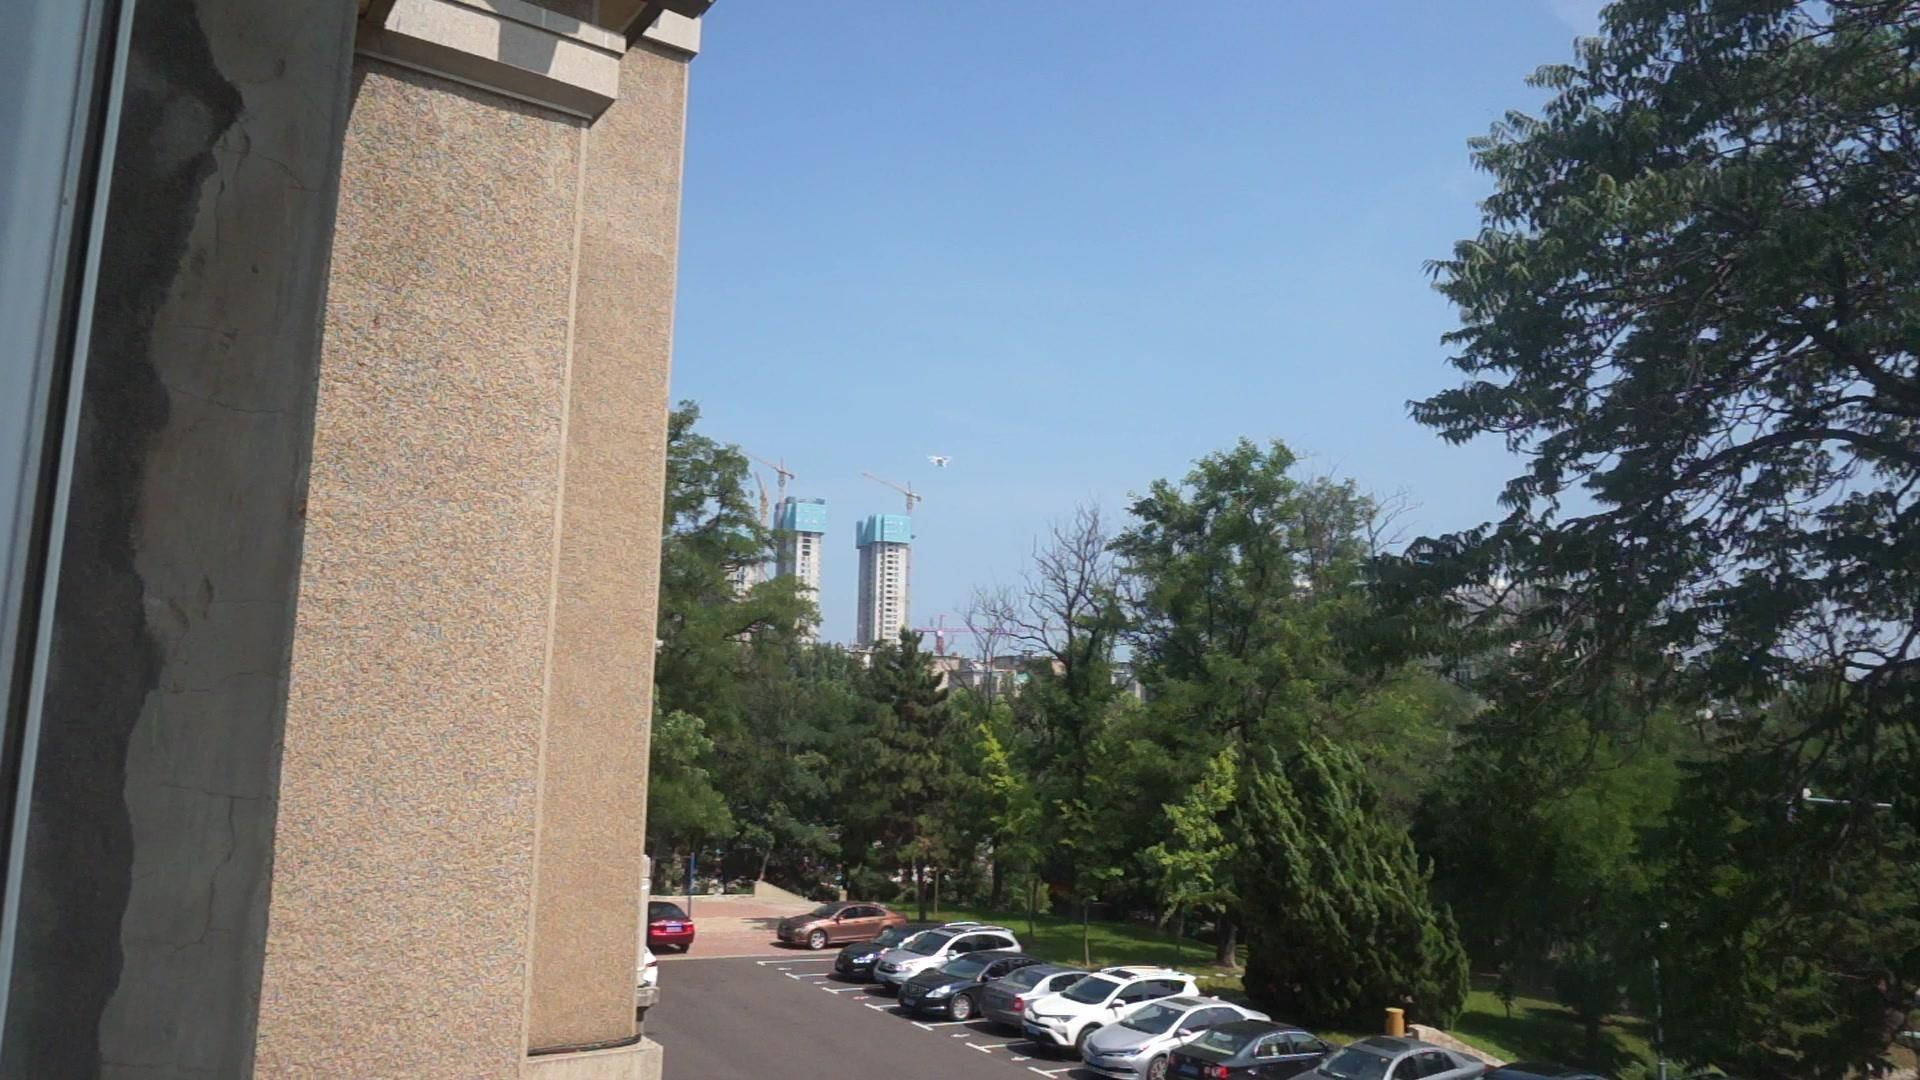UAV: (928, 456, 953, 469)
